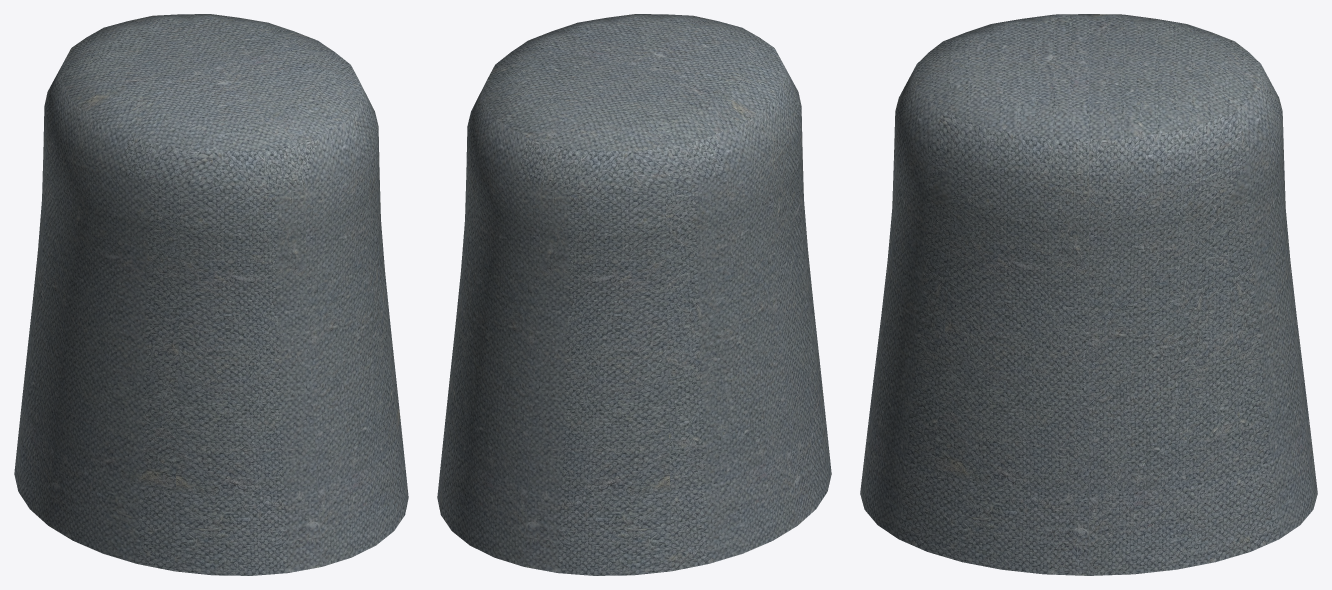
Rendered from sleeve.glb.
3 renders of one model, left to right at view 1: azimuth 30°, elevation 25°; view 2: azimuth 150°, elevation 25°; view 3: azimuth 270°, elevation 25°, orthographic. The views are drawn at different scales.
Visible parts, largest first — view 1: SleeveCloth; view 2: SleeveCloth; view 3: SleeveCloth.
Boxes of the visible parts, left/top/right/bottom form: SleeveCloth: left=14, top=14, right=408, bottom=575; SleeveCloth: left=437, top=14, right=831, bottom=575; SleeveCloth: left=860, top=14, right=1317, bottom=575.
Bounding box in the file's own units: 0.3587 × 0.44 × 0.421.
1 material, 1 textured.
